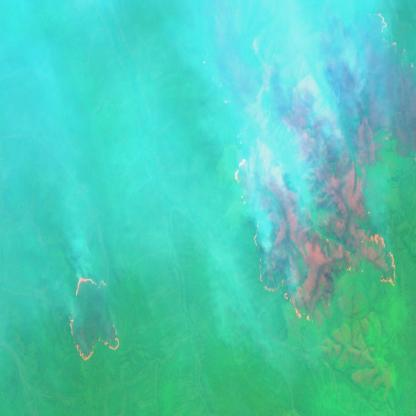fire: (232, 0, 416, 324), (68, 264, 121, 364)
